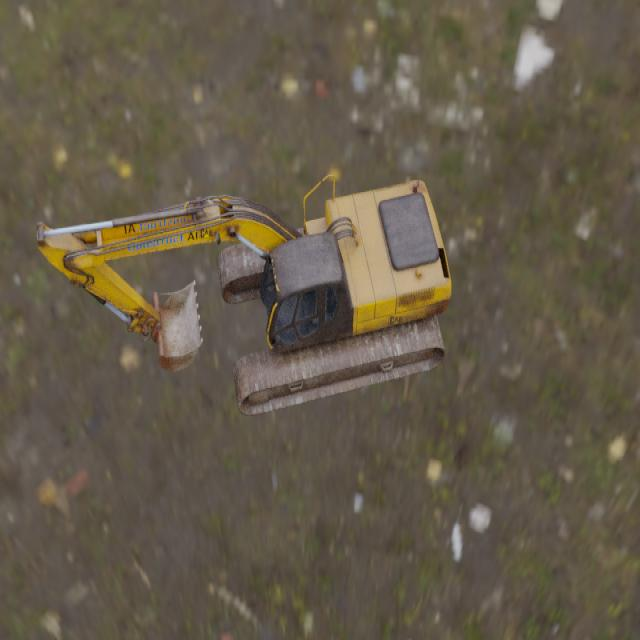excavator: (35, 179, 451, 416)
